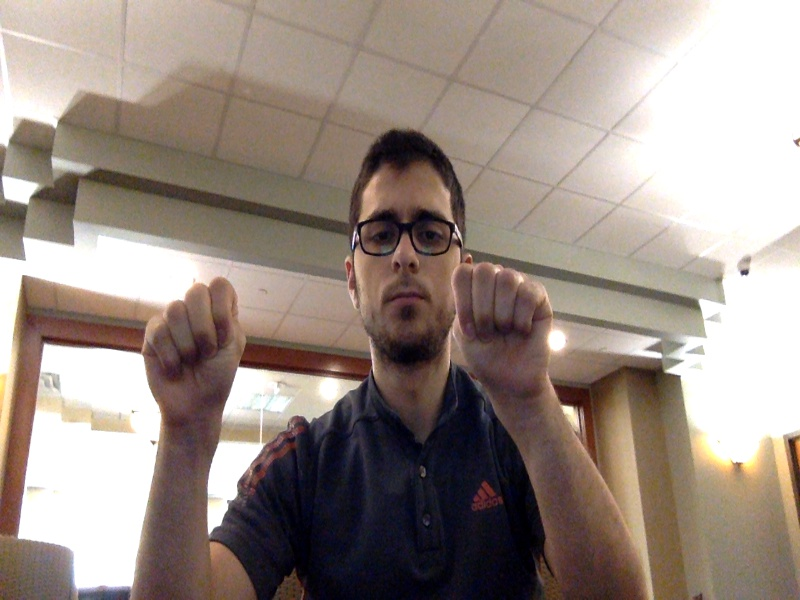0-hand: (142, 277, 245, 420), (454, 261, 553, 409)
